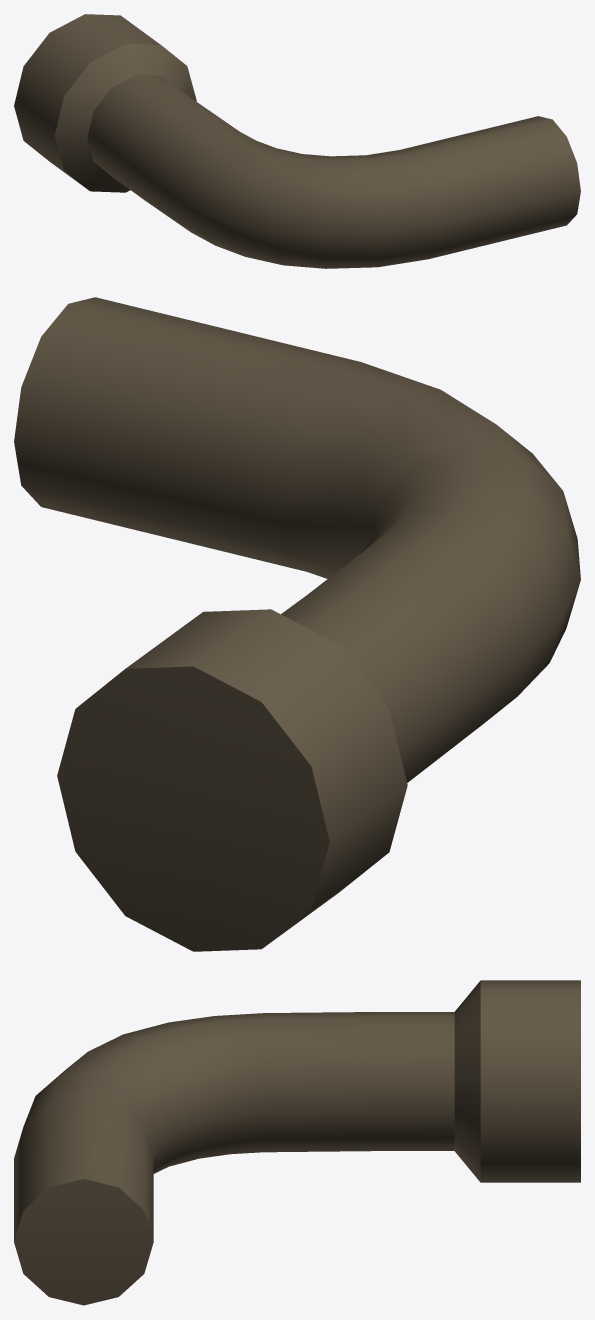
The model's file is Pipe_A_Bend.fbx.
3 views of the same model, one above another, from view 1: azimuth 30°, elevation 25°; view 2: azimuth 150°, elevation 25°; view 3: azimuth 270°, elevation 25° (orthographic). The views are drawn at different scales.
Parts seen in each view (by area): view 1: Pipe_A_Bend; view 2: Pipe_A_Bend; view 3: Pipe_A_Bend.
Boxes of the visible parts, left/top/right/bottom form: Pipe_A_Bend: left=14, top=14, right=580, bottom=268; Pipe_A_Bend: left=14, top=297, right=580, bottom=951; Pipe_A_Bend: left=14, top=980, right=580, bottom=1305.
Size of the model in its own units: 202 by 85.12 by 238.
